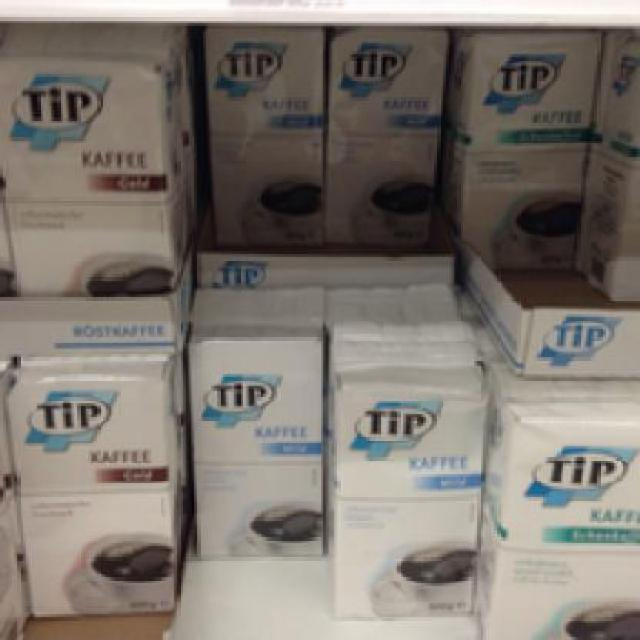Coffee: (0, 26, 183, 286), (323, 354, 488, 623), (3, 357, 171, 614), (472, 397, 634, 637), (183, 280, 320, 554), (452, 25, 598, 272), (323, 20, 446, 246), (203, 23, 323, 243)
